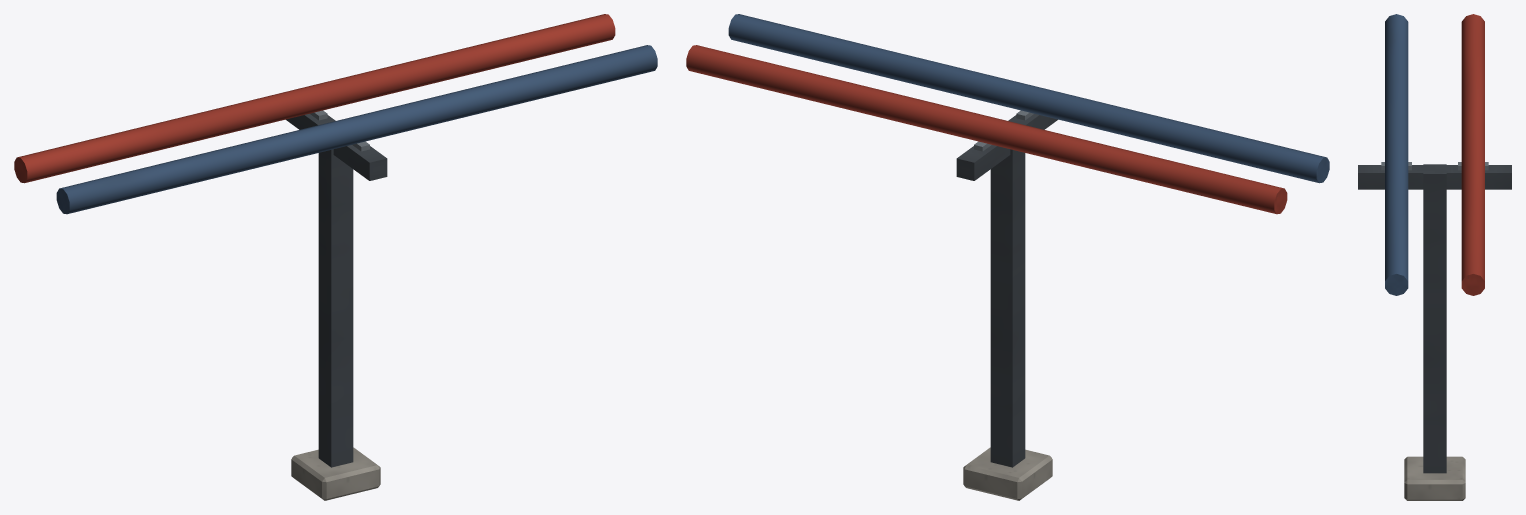
Rendered from pipe_rack_lc.obj.
3 renders of one model, left to right at view 1: azimuth 30°, elevation 25°; view 2: azimuth 150°, elevation 25°; view 3: azimuth 270°, elevation 25°, orthographic. The views are drawn at different scales.
Parts seen in each view (by area): view 1: pipe_rack_lc; view 2: pipe_rack_lc; view 3: pipe_rack_lc.
Part boxes in pixels (x1,y1,x2,y2): pipe_rack_lc: (14,14,657,500); pipe_rack_lc: (686,14,1329,500); pipe_rack_lc: (1358,14,1511,500).
Bounding box in the file's own units: 4 × 2.48 × 1.
Materials: 1 (1 with a texture image).
